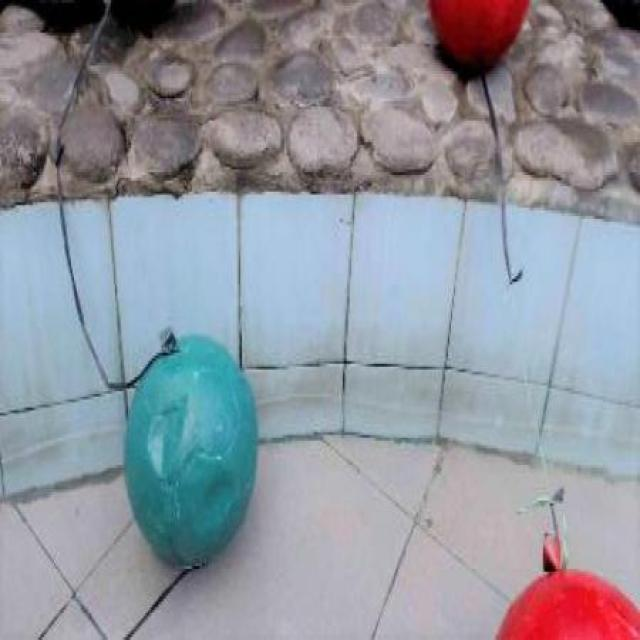buoy: (124, 336, 257, 568), (494, 567, 638, 636), (427, 0, 530, 71)
